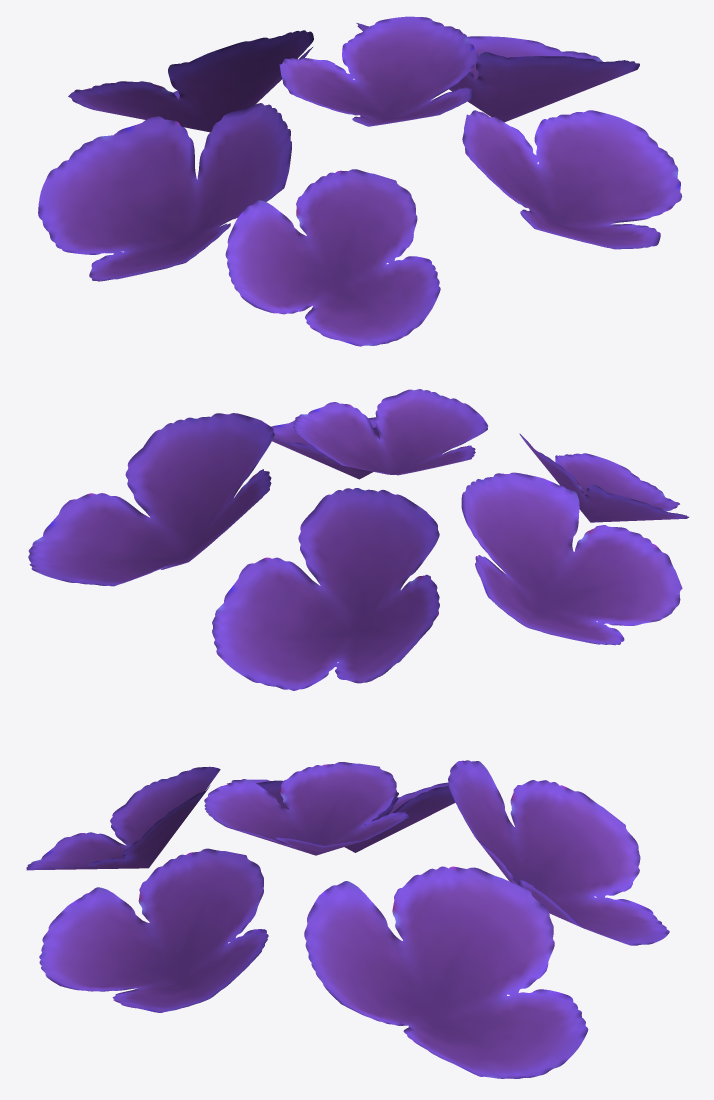
Rendered from plant_7.glb.
3 renders of one model, top to bottom at view 1: azimuth 30°, elevation 25°; view 2: azimuth 150°, elevation 25°; view 3: azimuth 270°, elevation 25°, orthographic. The views are drawn at different scales.
Visible parts, largest first — view 1: Plant_7; view 2: Plant_7; view 3: Plant_7.
Boxes of the visible parts, x1,y1,x2,y2 form: Plant_7: (38, 16, 682, 346); Plant_7: (28, 389, 688, 690); Plant_7: (26, 760, 669, 1078).
Bounding box in the file's own units: 1.05 × 0.2495 × 0.9621.
1 material, 1 textured.
